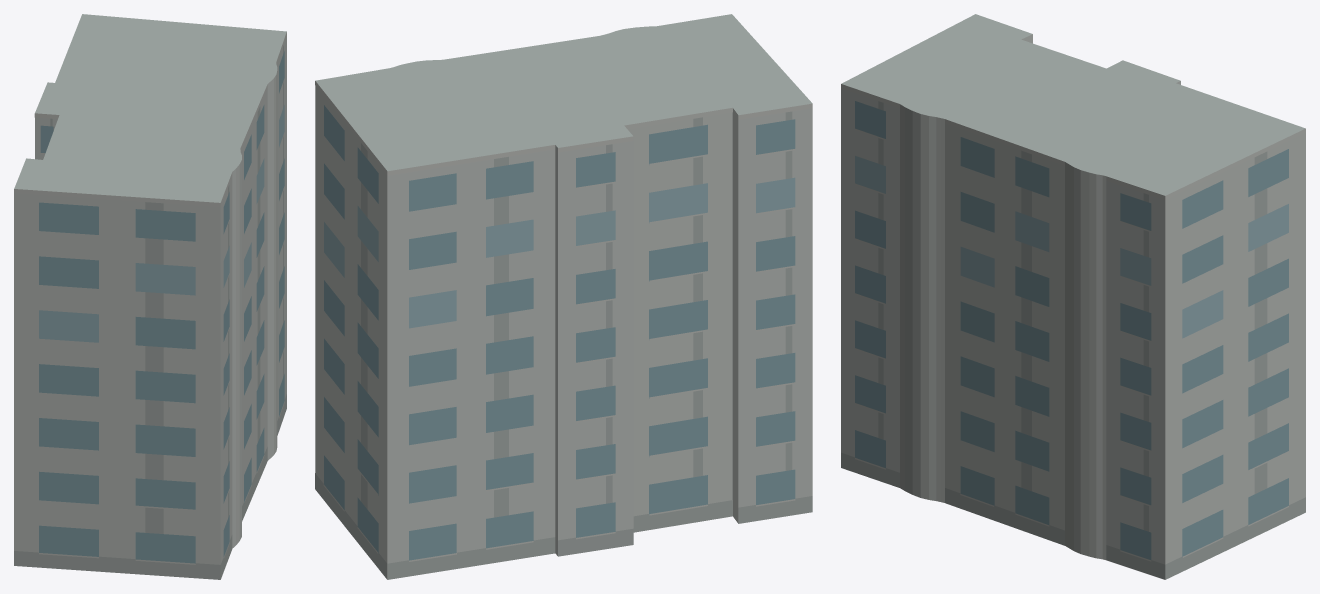
Rendered from survey-upis-32847670.glb.
3 views of the same model, side by side, from view 1: azimuth 30°, elevation 25°; view 2: azimuth 150°, elevation 25°; view 3: azimuth 270°, elevation 25° (orthographic). The views are drawn at different scales.
Parts seen in each view (by area): view 1: survey-upis-32847670.tmp; view 2: survey-upis-32847670.tmp; view 3: survey-upis-32847670.tmp.
Boxes of the visible parts, x1=… form: survey-upis-32847670.tmp: x1=14, y1=14, x2=286, y2=579; survey-upis-32847670.tmp: x1=315, y1=14, x2=812, y2=579; survey-upis-32847670.tmp: x1=841, y1=14, x2=1305, y2=579.
Size of the model in its own units: 21.74 by 21.4 by 23.48.
